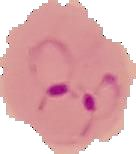parasitized: (7, 9, 130, 134), (22, 35, 84, 103), (36, 81, 102, 141), (89, 68, 128, 123)
